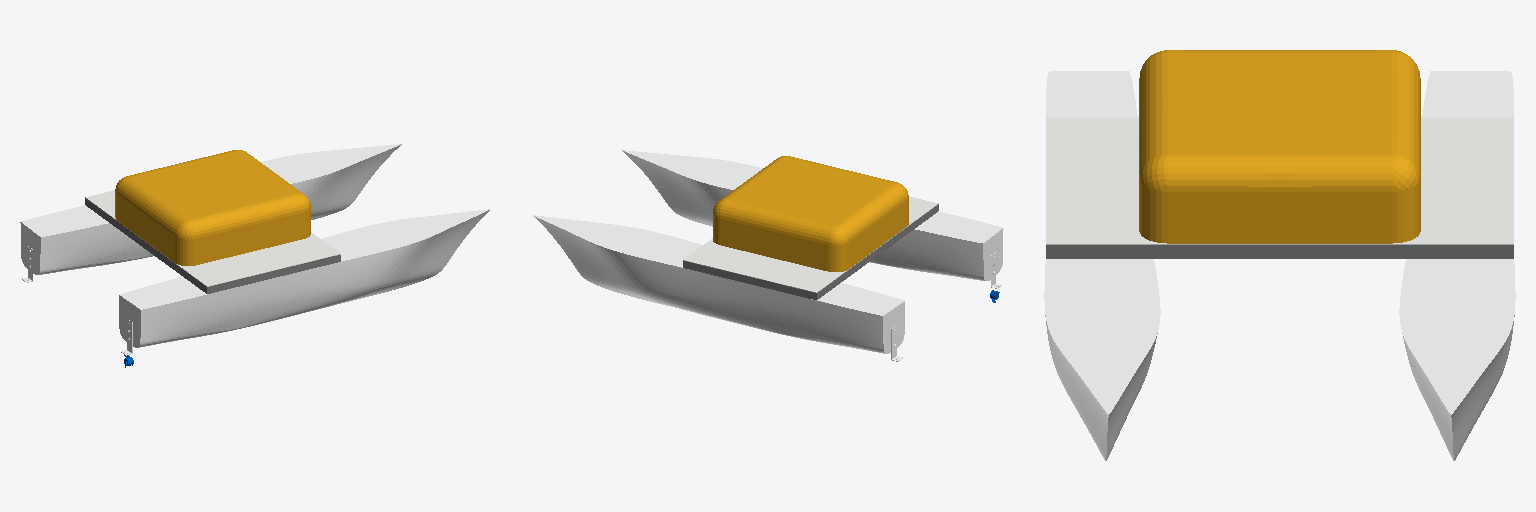
robot.urdf — aidboat:
<?xml version="1.0"?>
<robot name="aidboat">

<link name="dummy">
   </link>
<link name="base_link">
    <inertial>
        <mass value="9.7"/>
        <inertia ixx="0.3268889088" ixy="0" ixz="0" iyy="0.1452968093" iyz="0" izz="0.1452968093"/>
    </inertial>

    <collision>
        <origin xyz="0 0 0.1255" rpy="0 0 0"/>
        <geometry>
            <box size="0.73 1.15 0.251"/>
        </geometry>
    </collision>

    <visual>
    <origin rpy="0 0 0" xyz="0 0 0"/>
    <geometry>
        <mesh filename="package://aidboat_description/meshes/Base.dae"/>
    </geometry>
    </visual>
</link>

<joint name="dummy_joint" type="fixed">
    <parent link="dummy"/>
    <child link="base_link"/>
</joint>

<joint name="base_to_hull1" type="fixed">
    <parent link="base_link"/>
    <child link="hull1_link"/>
    <origin xyz="0.172098 0.447 0" rpy="0 0 0"/>
</joint>

<link name="hull1_link">
    <inertial>
        <mass value="19.4"/>
        <inertia ixx="0.07803639653" ixy="0" ixz="0" iyy="2.168007709" iyz="0" izz="2.168007709"/>
    </inertial>

    <collision>
        <origin xyz="0.1019 0 -0.146" rpy="0 0 -0.0244346"/>
        <geometry>
            <box size="2.002 0.286 0.292"/>
        </geometry>
    </collision>

    <visual>
    <origin rpy="0 0 -0.0244346" xyz="0 0 0"/>
    <geometry>
        <mesh filename="package://aidboat_description/meshes/Hull.dae"/>
    </geometry>
    </visual>
</link>

<joint name="base_to_hull2" type="fixed">
    <parent link="base_link"/>
    <child link="hull2_link"/>
    <origin xyz="0.172098 -0.447 0" rpy="0 0 0"/>
</joint>

<link name="hull2_link">
    <inertial>
        <mass value="19.4"/>
        <inertia ixx="0.07803639653" ixy="0" ixz="0" iyy="2.168007709" iyz="0" izz="2.168007709"/>
    </inertial>

    <collision>
        <origin xyz="0.1019 0 -0.146" rpy="0 0 0.0244346"/>
        <geometry>
            <box size="2.002 0.286 0.292"/>
        </geometry>
    </collision>

    <visual>
    <origin rpy="0 0 0.0244346" xyz="0 0 0"/>
    <geometry>
        <mesh filename="package://aidboat_description/meshes/Hull.dae"/>
    </geometry>
    </visual>
</link>

<link name="CCWEngine">
    <inertial>
        <mass value="0.126"/>
        <inertia ixx="0.00002900992" ixy="0" ixz="0" iyy="0.00002900992" iyz="0" izz="0.0001575"/>
    </inertial>

    <collision>
        <origin xyz="0.011222 0 0" rpy="0 1.5708 0.0244346"/>
        <geometry>
            <cylinder radius="0.05" length="0.113"/>
        </geometry>
    </collision> 

    <visual>
    <origin rpy="0 0 0.0244346" xyz="0 0 0"/>
    <geometry>
        <mesh filename="package://aidboat_description/meshes/CCWEngine.dae"/>
    </geometry>
    </visual>
</link>

<joint name="base_to_CCWEngine" type="fixed">
    <parent link="base_link"/>
    <child link="CCWEngine"/>
    <origin xyz="-0.741 -0.47 -0.308" rpy="0 0 0"/>
</joint>

<joint name="CCWEngine_to_Propeller" type="continuous">
    <parent link="CCWEngine"/>
    <child link="CCWPropeller"/>
    <origin xyz="0 0 0" rpy="0 0 0"/>
    <axis rpy="0 0 0" xyz="1 0 0"/>
    <limit effort="100" velocity="100"/>
    <dynamics friction="0.05" damping="0.05"/>
</joint>

<link name="CCWPropeller">
    <inertial>
        <mass value="0.030"/>
        <inertia ixx="0.00000058378" ixy="0" ixz="0" iyy="0.00000058378" iyz="0" izz="0.00002177415"/>
    </inertial>

    <collision>
        <origin xyz="0.0109 0 0" rpy="0 1.5708 0.0244346"/>
        <geometry>
            <cylinder radius="0.0381" length="0.03"/>
        </geometry>
    </collision>

    <visual>
    <origin rpy="0 0 0.0244346" xyz="0 0 0"/>
    <geometry>
        <mesh filename="package://aidboat_description/meshes/CCWPropeller.dae"/>
    </geometry>
    </visual>
</link>

<link name="CWEngine">
    <inertial>
        <mass value="0.126"/>
        <inertia ixx="0.00002900992" ixy="0" ixz="0" iyy="0.00002900992" iyz="0" izz="0.0001575"/>
    </inertial>

    <collision>
        <origin xyz="0.011222 0 0" rpy="0 1.5708 -0.0244346"/>
        <geometry>
            <cylinder radius="0.05" length="0.113"/>
        </geometry>
    </collision>

    <visual>
    <origin rpy="0 0 -0.0244346" xyz="0 0 0"/>
    <geometry>
        <mesh filename="package://aidboat_description/meshes/CWEngine.dae"/>
    </geometry>
    </visual>
</link>

<joint name="base_to_CWEngine" type="fixed">
    <parent link="base_link"/>
    <child link="CWEngine"/>
    <origin xyz="-0.741 0.469 -0.307001" rpy="0 0 0"/>
</joint>

<joint name="CWEngine_to_Propeller" type="continuous">
    <parent link="CWEngine"/>
    <child link="CWPropeller"/>
    <origin xyz="0 0 0" rpy="0 0 0"/>
    <axis rpy="0 0 0" xyz="1 0 0"/>
    <limit effort="100" velocity="100"/>
    <dynamics friction="0.05" damping="0.05"/>
</joint>

<link name="CWPropeller">
    <inertial>
        <mass value="0.030"/>
        <inertia ixx="0.00000058378" ixy="0" ixz="0" iyy="0.00000058378" iyz="0" izz="0.00002177415"/>
    </inertial>

    <collision>
        <origin xyz="0.0109 0 0" rpy="0 1.5708 -0.0244346"/>
        <geometry>
            <cylinder radius="0.0381" length="0.03"/>
        </geometry>
    </collision>

    <visual>
    <origin rpy="0 0 -0.0244346" xyz="0 0 0"/>
    <geometry>
        <mesh filename="package://aidboat_description/meshes/CWPropeller.dae"/>
    </geometry>
    </visual>
</link>

</robot>

--- Render facts (derived) ---
The picture shows the robot from 3 angles, left to right: view 1: azimuth 30°, elevation 25°; view 2: azimuth 150°, elevation 25°; view 3: azimuth 270°, elevation 25°; orthographic projection.
Model aidboat with 8 links and 7 joints (2 continuous, 5 fixed), rooted at dummy, posed all joints at 0.
Links seen in each view (by area): view 1: base_link, hull2_link, hull1_link; view 2: base_link, hull1_link, hull2_link; view 3: base_link, hull1_link, hull2_link.
Boxes of the visible links, left/top/right/bottom form: base_link: left=85, top=150, right=340, bottom=293; hull2_link: left=119, top=209, right=490, bottom=355; hull1_link: left=20, top=144, right=401, bottom=282; base_link: left=683, top=156, right=938, bottom=299; hull1_link: left=533, top=215, right=904, bottom=361; hull2_link: left=622, top=150, right=1003, bottom=288; base_link: left=1046, top=50, right=1513, bottom=258; hull1_link: left=1399, top=71, right=1515, bottom=460; hull2_link: left=1044, top=71, right=1160, bottom=460.
Bounding box of the posed robot: 2.04 × 1.16 × 0.5946 m (x, y, z).
Meshes: 6 distinct files referenced, 4 mesh visuals loaded (3 Collada DAE); not drawn: 3 (reference not matched to a file when rendering).